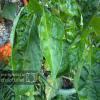Bell_pepper leaf: (37, 10, 65, 84), (14, 13, 34, 54), (68, 40, 84, 74)
